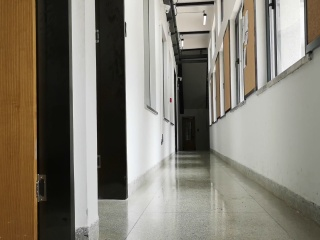room: (2, 2, 77, 240), (92, 2, 133, 204)
